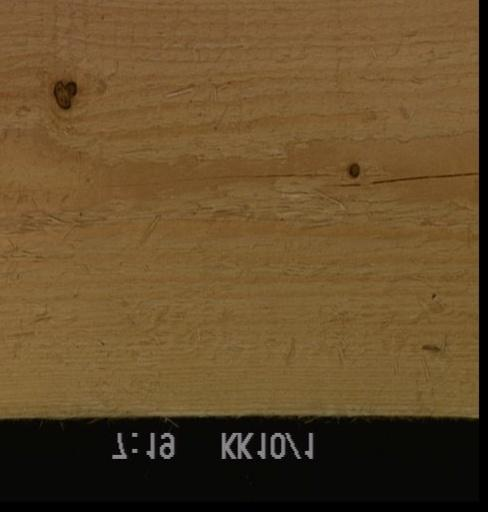dry_knot: (51, 78, 78, 110), (347, 163, 359, 177)
split: (106, 171, 332, 188), (368, 170, 478, 184)
